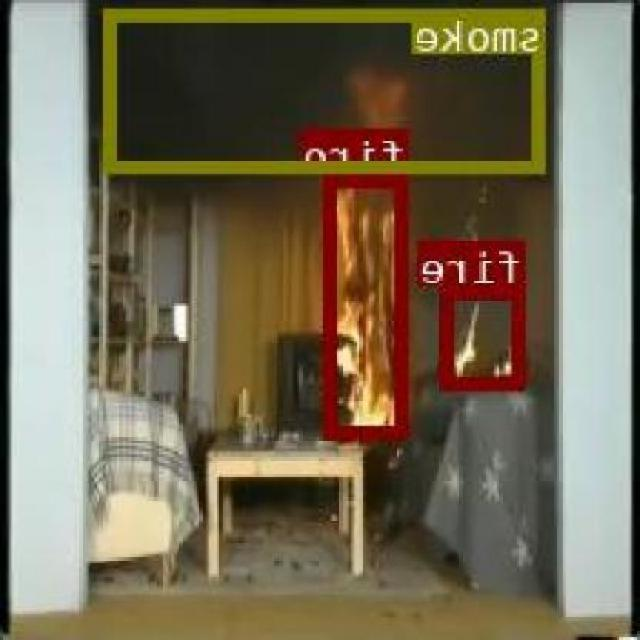Fire: (328, 173, 409, 436), (445, 284, 527, 387)
Smoke: (108, 8, 547, 170)
